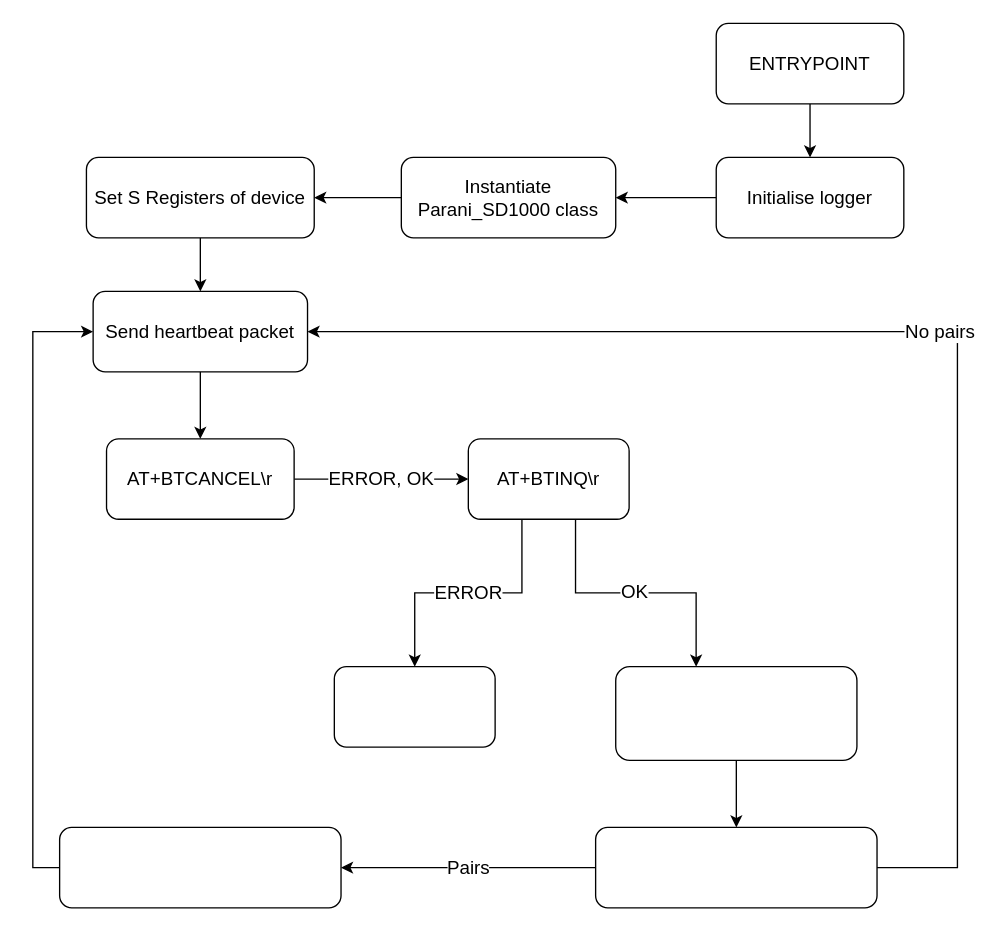
This 998x931 diagram has some shape labels left out. Each missing label, with the box of its shape:
DEVICE_BT_ADDRESS, DEVICE_NAME, DEVICE_COD: (614, 665, 857, 760)
Filter DEVICE_ BT_ADDRESS and pair timestamp: (594, 826, 877, 908)
OPERATION FAILURE: (333, 665, 495, 747)
Send pairs via Incoming Message Protocol: (58, 826, 341, 908)
